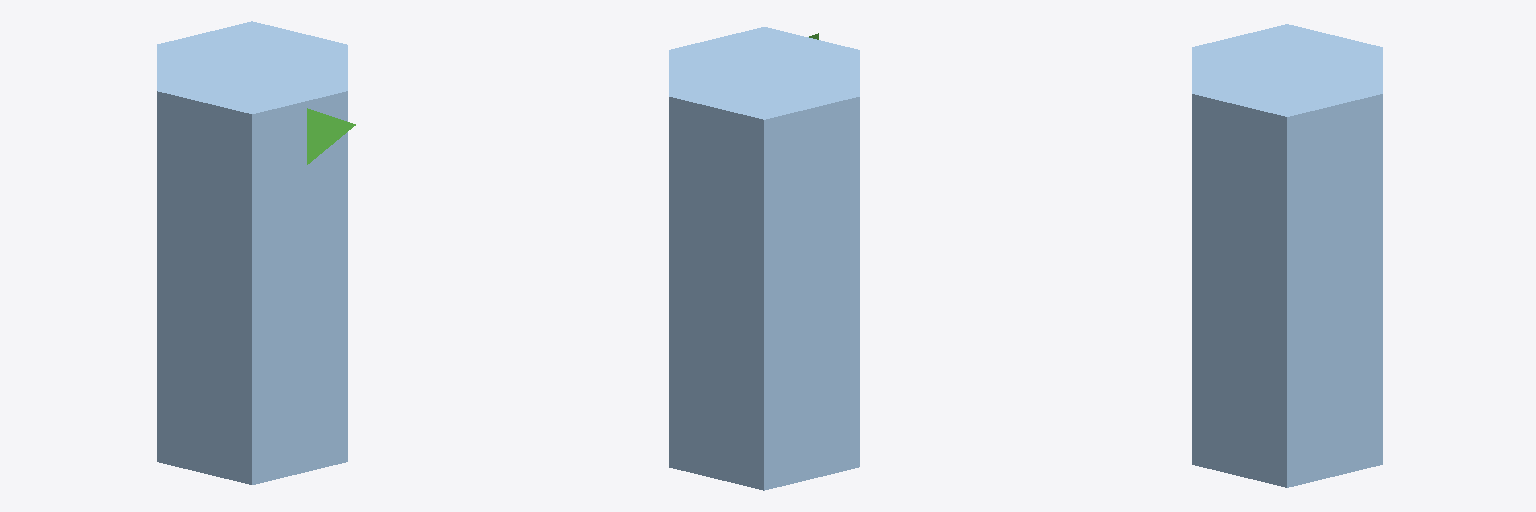
The model's file is mojito.obj.
3 renders of one model, left to right at view 1: azimuth 30°, elevation 25°; view 2: azimuth 150°, elevation 25°; view 3: azimuth 270°, elevation 25°, orthographic.
Parts seen in each view (by area): view 1: glass_outer, glass_inner; view 2: glass_outer; view 3: glass_outer.
Part boxes in pixels (x1,y1,x2,y2): glass_outer: (157,21,347,484); glass_inner: (307,108,355,164); glass_outer: (669,27,859,490); glass_outer: (1192,24,1382,487).
Bounding box in the file's own units: 0.7 × 1.3 × 0.6531.